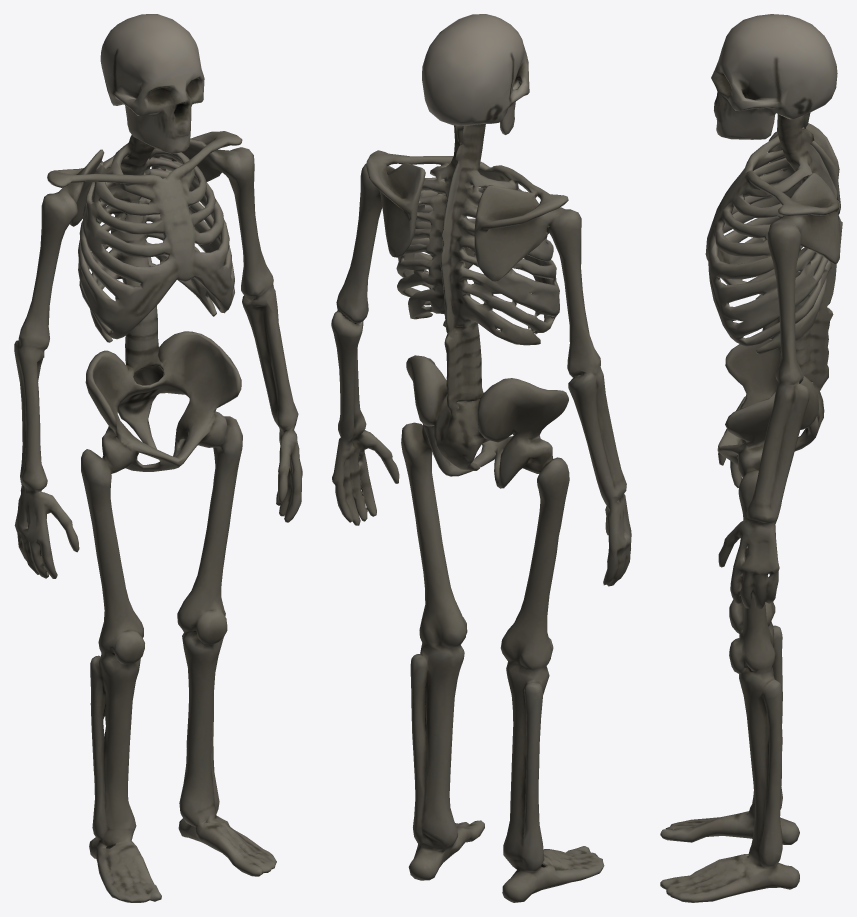
The model's file is human-skeleton-model.glb.
3 renders of one model, left to right at view 1: azimuth 30°, elevation 25°; view 2: azimuth 150°, elevation 25°; view 3: azimuth 270°, elevation 25°, orthographic. The views are drawn at different scales.
Parts seen in each view (by area): view 1: world; view 2: world; view 3: world.
Part boxes in pixels (x1,y1,x2,y2): world: [14, 14, 302, 902]; world: [331, 14, 631, 902]; world: [660, 14, 842, 902].
Size of the model in its own units: 0.3485 by 1 by 0.196.
Materials: 1 (1 with a texture image).
